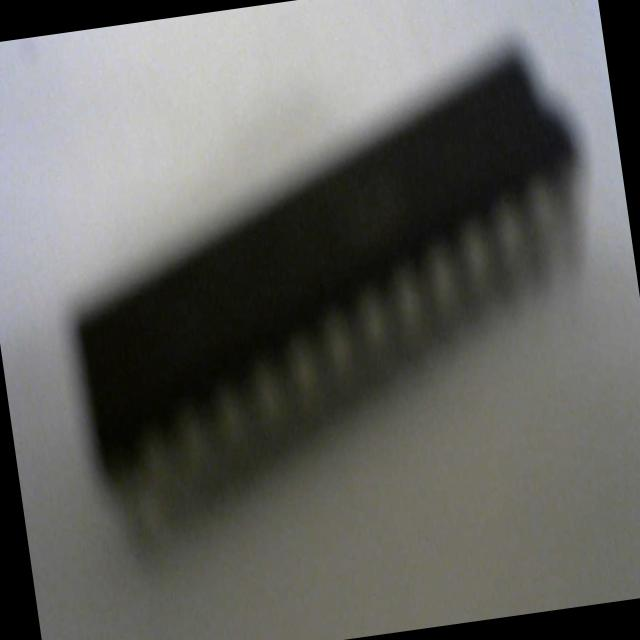atmega: (39, 27, 628, 525)
